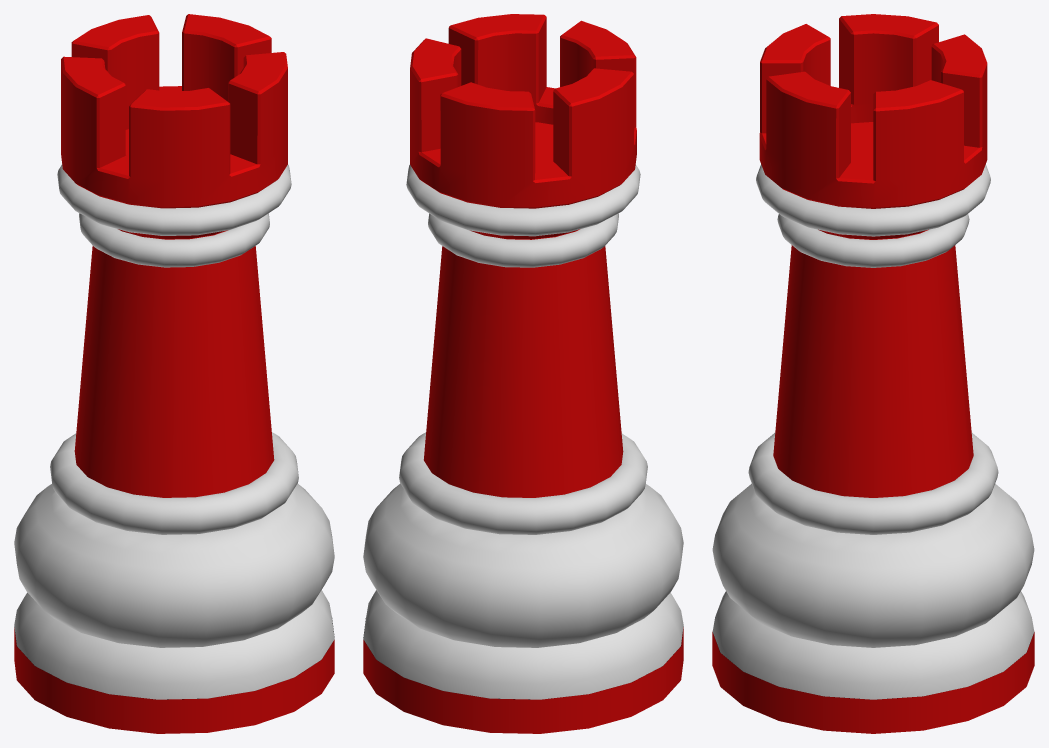
File: RookTexture.fbx
3 views of the same model, side by side, from view 1: azimuth 30°, elevation 25°; view 2: azimuth 150°, elevation 25°; view 3: azimuth 270°, elevation 25° (orthographic).
Parts seen in each view (by area): view 1: RookBody, RookRing0, RookBase1, RookBase0, RookRing1, RookRing3, RookRing2; view 2: RookBody, RookRing0, RookBase1, RookBase0, RookRing1, RookRing3, RookRing2; view 3: RookBody, RookRing0, RookBase1, RookBase0, RookRing1, RookRing3, RookRing2.
Part boxes in pixels (box(x1,y1,x2,y2)): RookBody: box(61, 14, 287, 497); RookRing0: box(14, 483, 334, 647); RookBase1: box(14, 590, 334, 699); RookBase0: box(14, 618, 334, 733); RookRing1: box(50, 432, 298, 534); RookRing3: box(57, 164, 291, 235); RookRing2: box(79, 213, 269, 267); RookBody: box(410, 14, 636, 497); RookRing0: box(363, 483, 683, 647); RookBase1: box(363, 590, 683, 699); RookBase0: box(363, 618, 683, 733); RookRing1: box(399, 432, 647, 534); RookRing3: box(406, 164, 640, 236); RookRing2: box(428, 213, 618, 267); RookBody: box(759, 14, 987, 497); RookRing0: box(712, 483, 1034, 647); RookBase1: box(712, 591, 1034, 699); RookBase0: box(712, 632, 1034, 733); RookRing1: box(748, 433, 998, 534); RookRing3: box(756, 164, 990, 236); RookRing2: box(777, 214, 969, 267).
Size of the model in its own units: 0.9928 by 2.06 by 0.9928.
